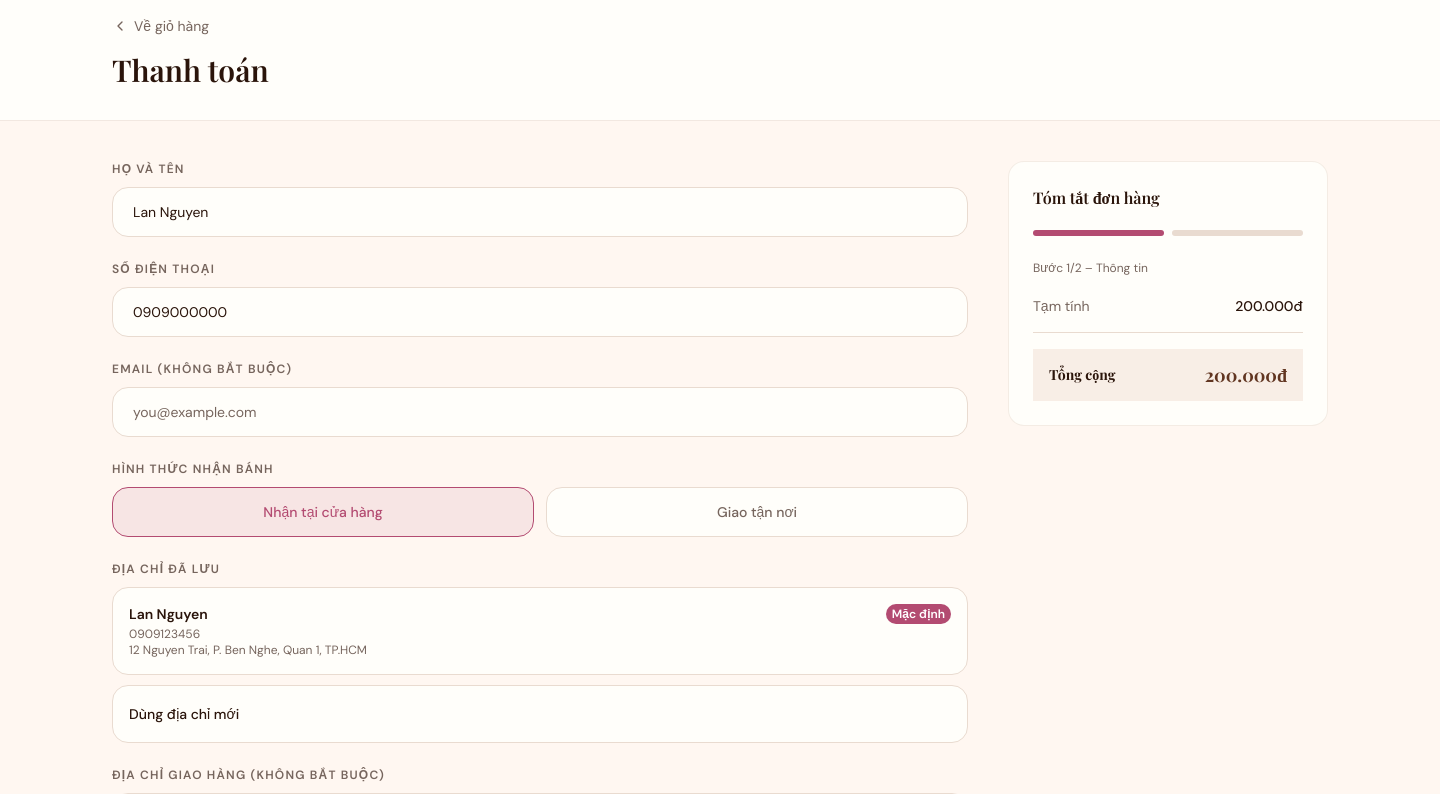
Checkout saved address hand-edit fidelity › drops the saved address id when the address is hand-edited after selection
Later steps or results of the test are not shown.
Click the radio button labelled "Lan Nguyen" at (168,614), box left=112, top=587, right=968, bottom=675
(page scrolled)
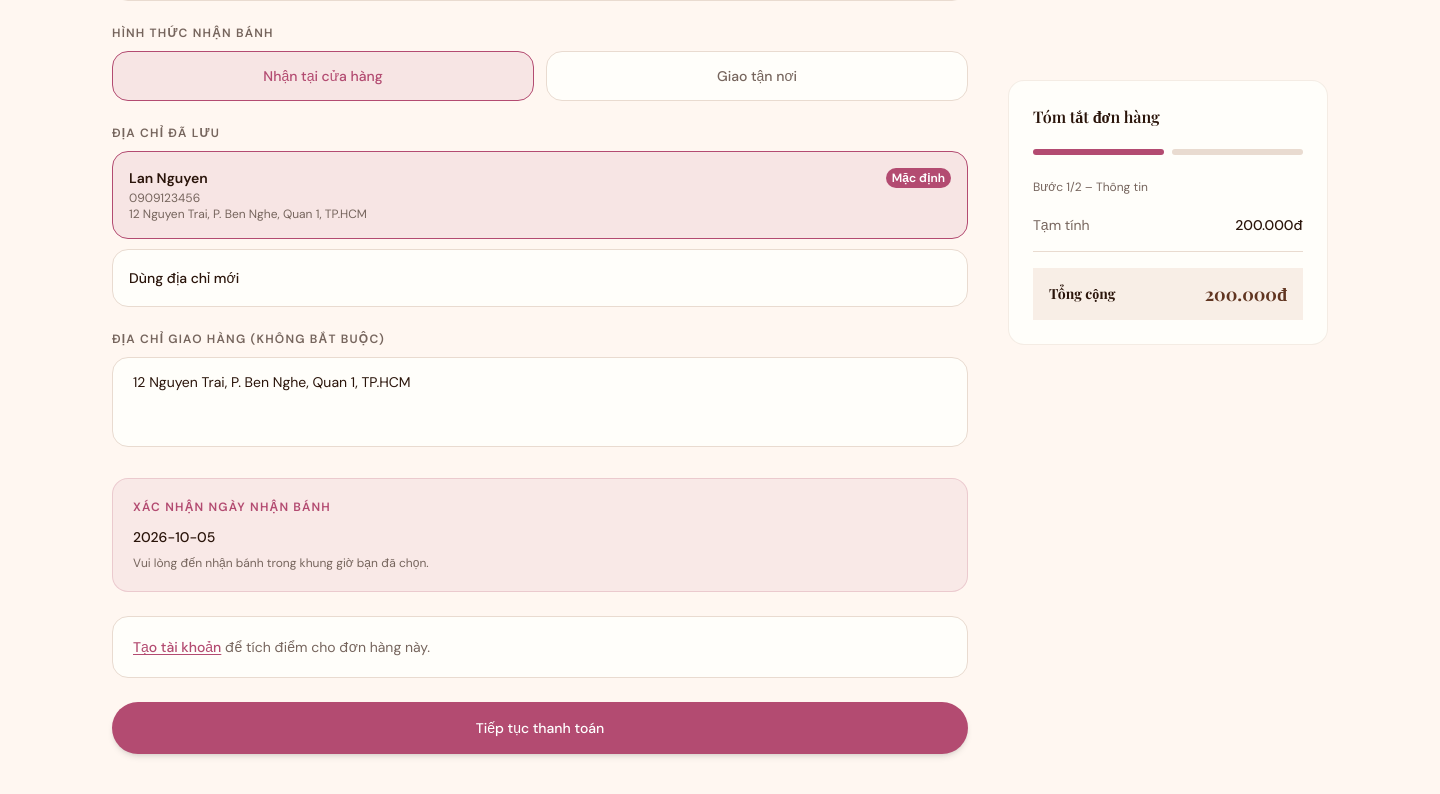
Result: the text box with placeholder "Không bắt buộc khi nhận tại cửa hàng" holds "12 Nguyen Trai, P. Ben Nghe, Quan 1, TP.HCM" at left=112, top=357, right=968, bottom=447
